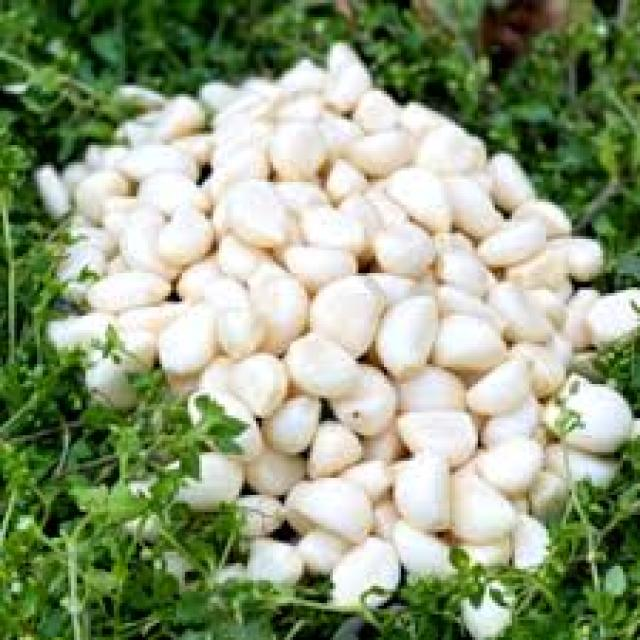garlic: (262, 381, 464, 538), (376, 210, 554, 387), (208, 194, 386, 364), (205, 97, 415, 205)
